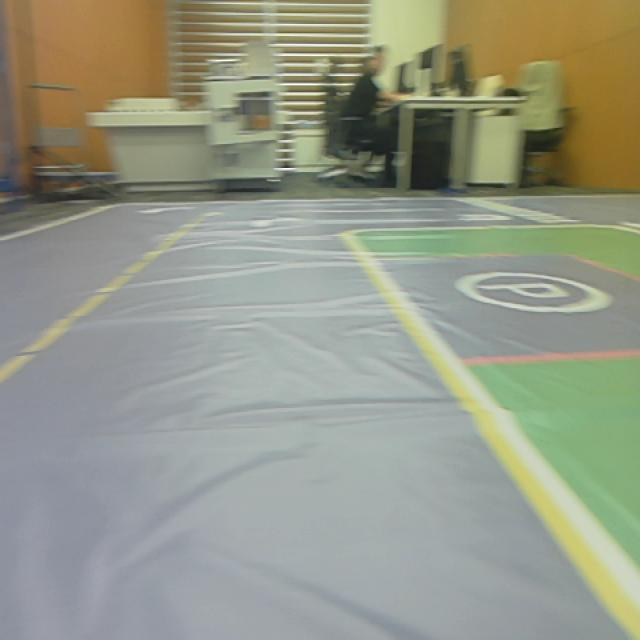left_lane: (0, 220, 199, 383)
right_lane: (340, 237, 640, 639)
